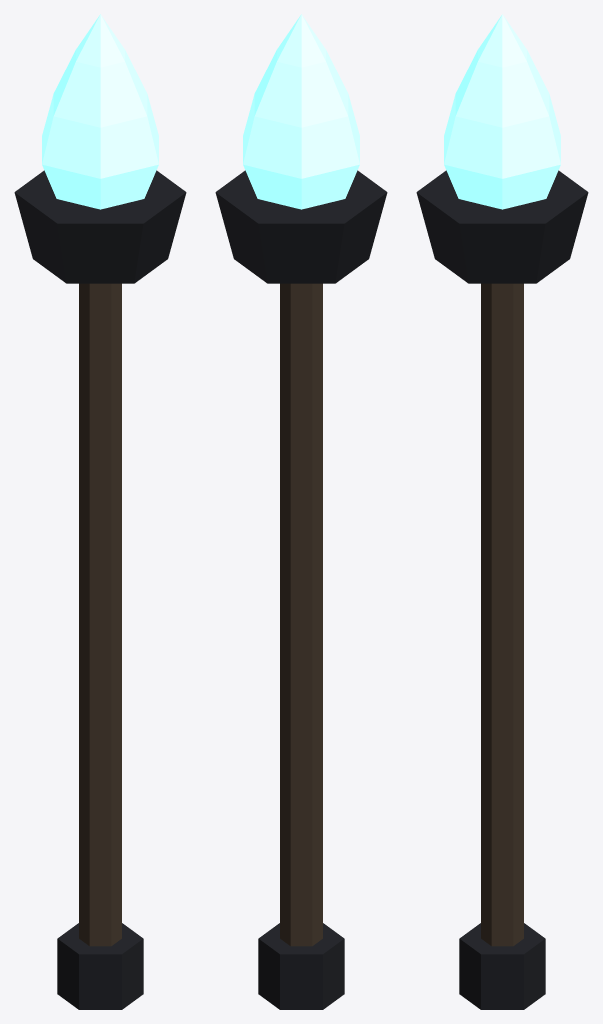
Rendered from torch.glb.
3 renders of one model, left to right at view 1: azimuth 30°, elevation 25°; view 2: azimuth 150°, elevation 25°; view 3: azimuth 270°, elevation 25°, orthographic.
Parts seen in each view (by area): view 1: torch; view 2: torch; view 3: torch.
Boxes of the visible parts, x1,y1,x2,y2 form: torch: (14, 14, 186, 1009); torch: (215, 14, 387, 1009); torch: (416, 14, 588, 1009).
Size of the model in its own units: 0.2425 by 1.76 by 0.28.
